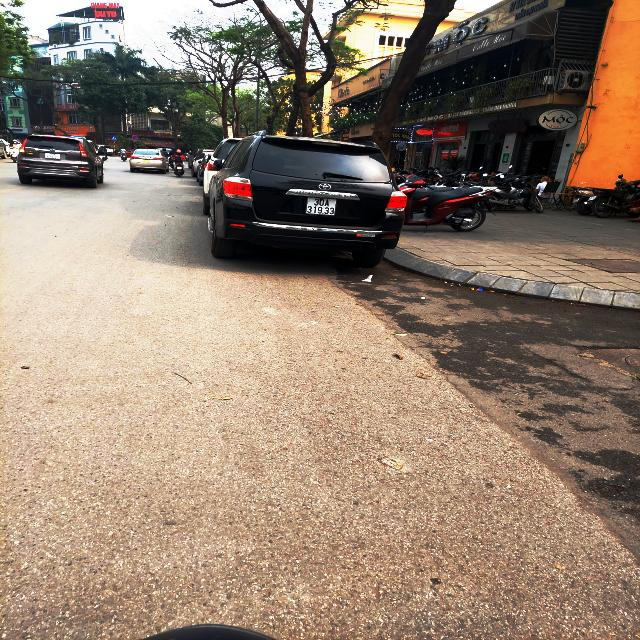license_plate: (307, 198, 339, 216)
